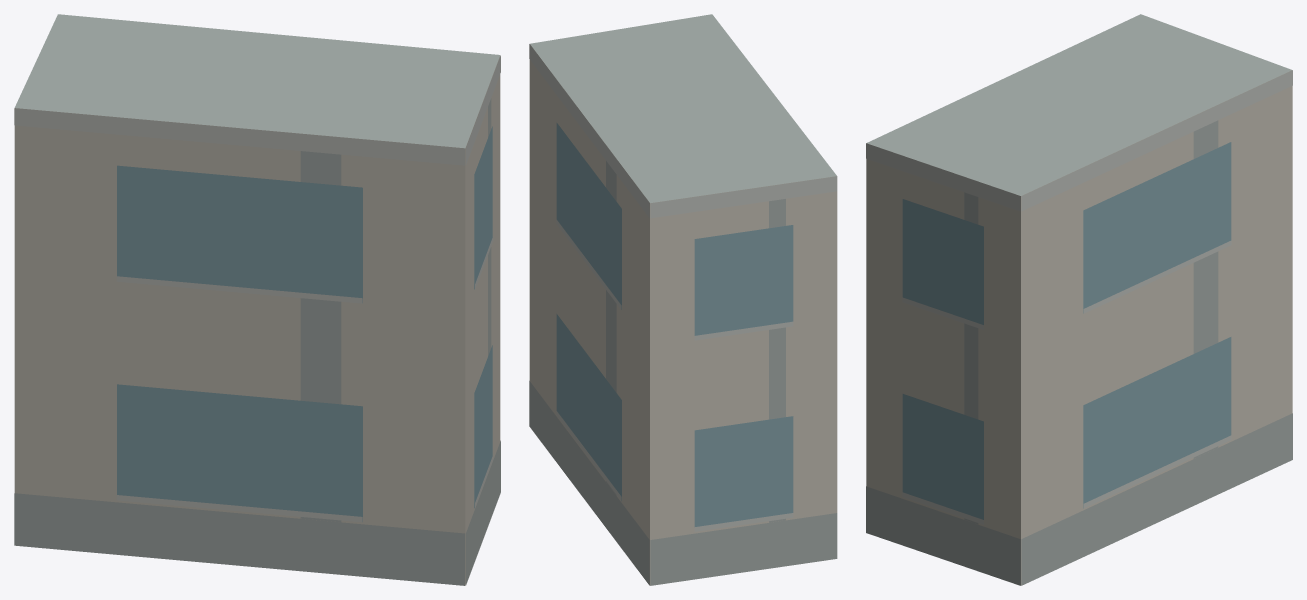
File: survey-upis-32634902.glb
3 renders of one model, left to right at view 1: azimuth 30°, elevation 25°; view 2: azimuth 150°, elevation 25°; view 3: azimuth 270°, elevation 25°, orthographic. The views are drawn at different scales.
Parts seen in each view (by area): view 1: survey-upis-32634902.tmp; view 2: survey-upis-32634902.tmp; view 3: survey-upis-32634902.tmp.
Part boxes in pixels (x1,y1,x2,y2): survey-upis-32634902.tmp: [14, 14, 500, 585]; survey-upis-32634902.tmp: [529, 14, 837, 585]; survey-upis-32634902.tmp: [866, 14, 1292, 585].
Size of the model in its own units: 6.12 by 6.1 by 6.06.
